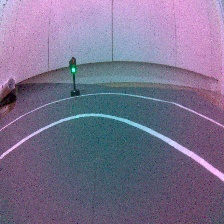green: (65, 56, 81, 99)
